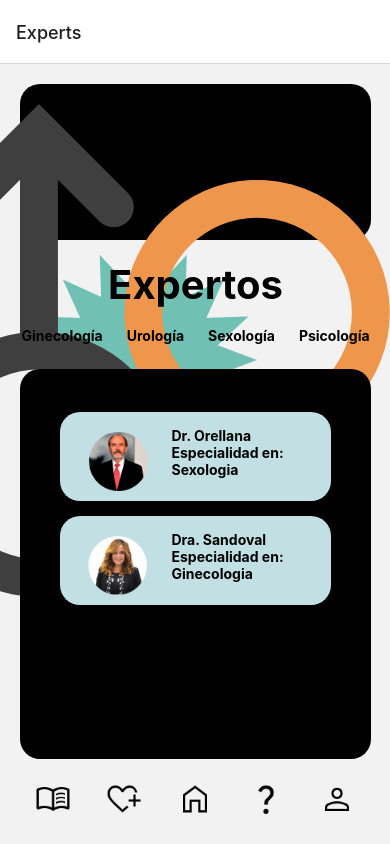
it: Reads expertos.json correctly
The image size is (390, 844).
Expected: the text "Expertos" is shown, [108,260,283,309]
Click the text "Dr. Orellana Especialidad en: Sexologia". click: x=228, y=453
box: [172,427,284,478]
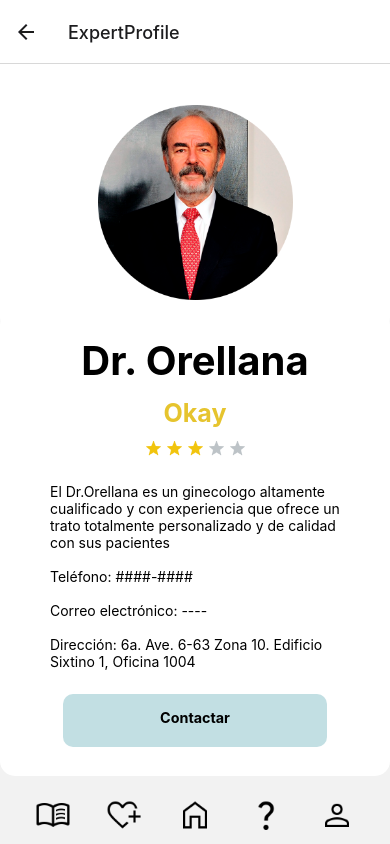
Expected: the text "Dr. Orellana" is shown, [81,336,309,384]
Result: the text "El Dr.Orellana es un ginecologo altamente cualificado y con experiencia que ofrece un trato totalmente personalizado y d" is shown at [50,483,340,551]
